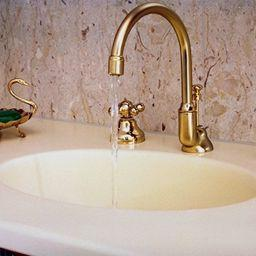Lavamanos: (2, 4, 254, 253)
